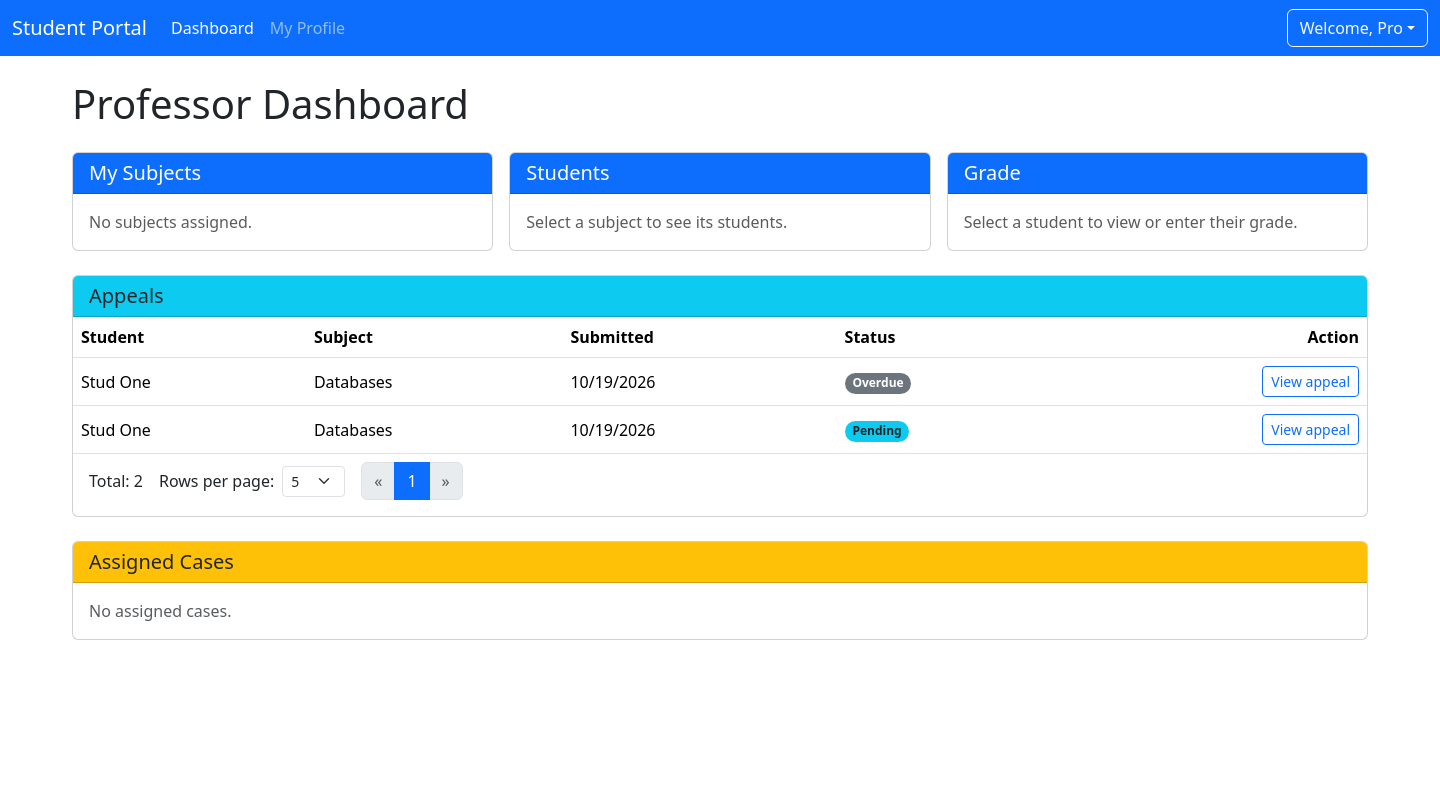
Professor appeals section (§5.4 + Task 18.6) › when an Overdue history entry exists for the same gradeId then it renders with [OVERDUE] prefix
Click the button "View appeal" in the row of "Pending": (1311, 430) [1262, 414, 1359, 445]
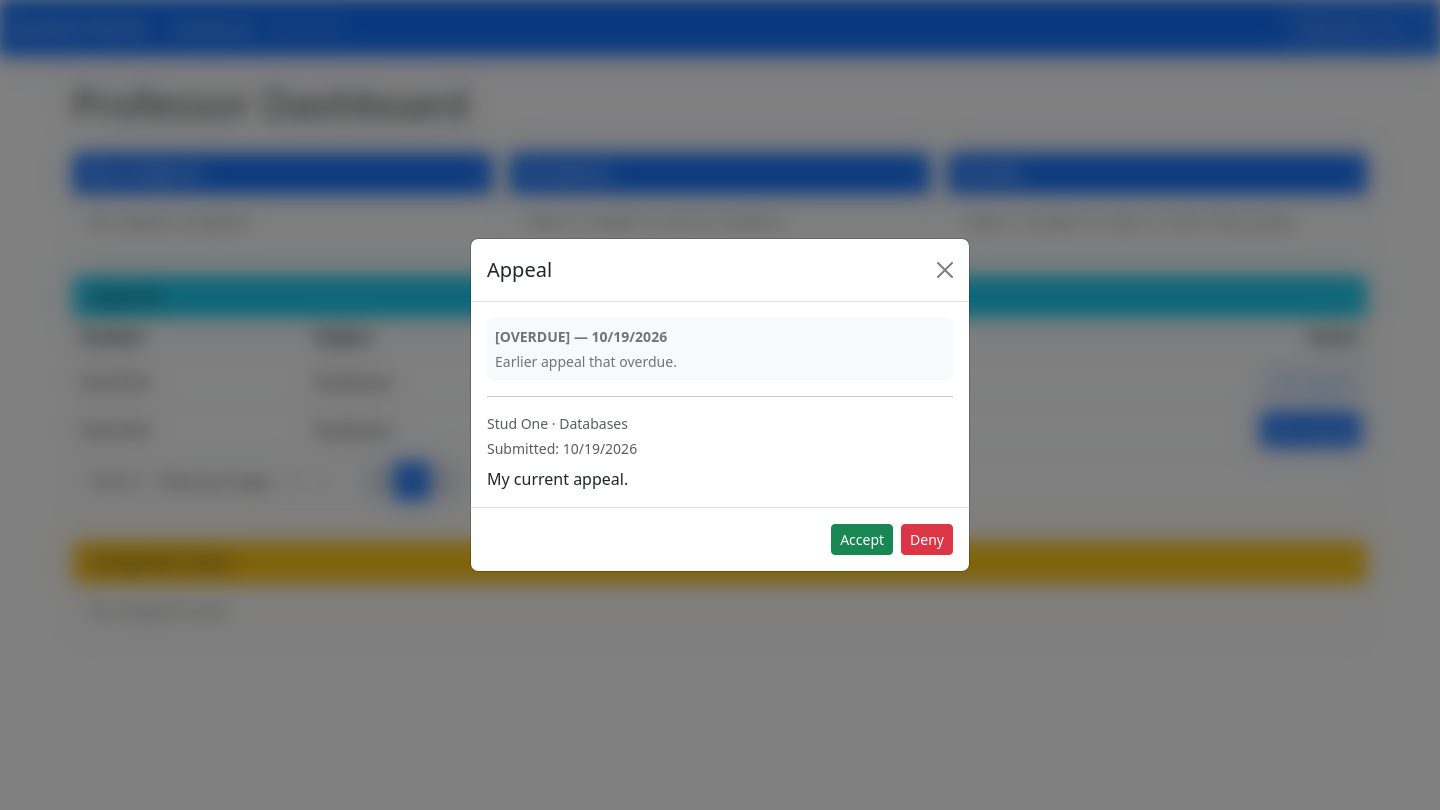
Expected: the text "[OVERDUE] — 10/19/2026" is shown, [495, 327, 667, 346]
